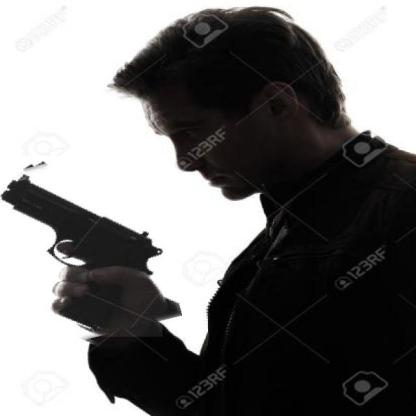handgun: (0, 165, 172, 274)
